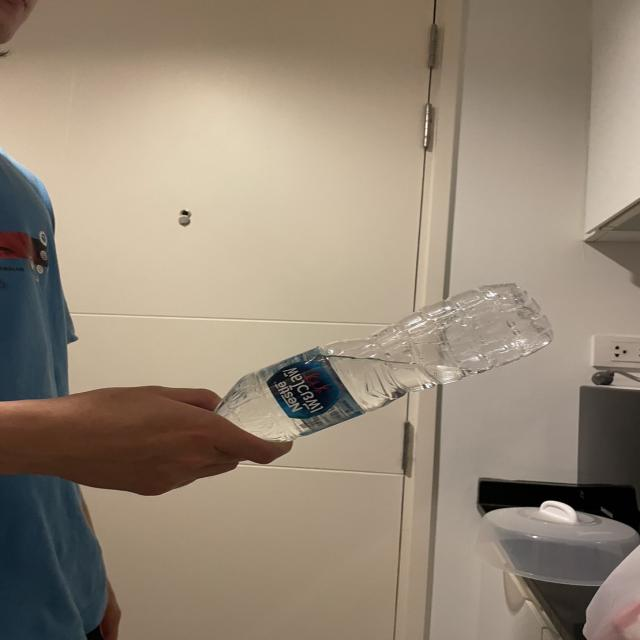bottle: (215, 288, 573, 454)
